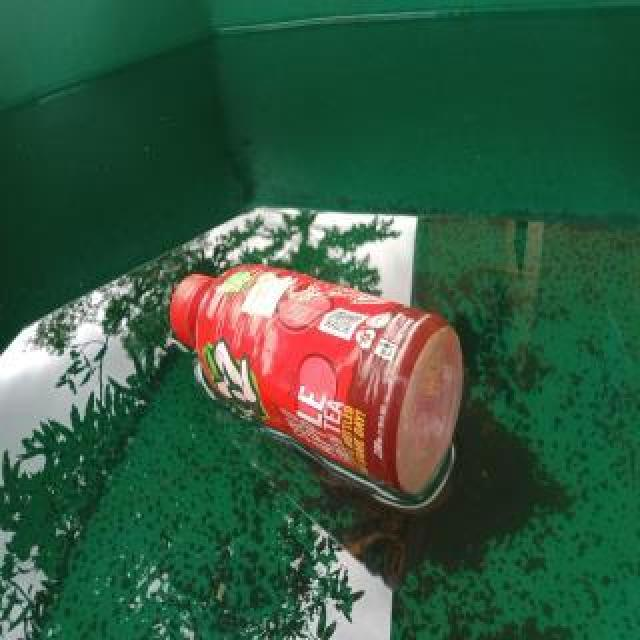bottle: (160, 255, 480, 507)
